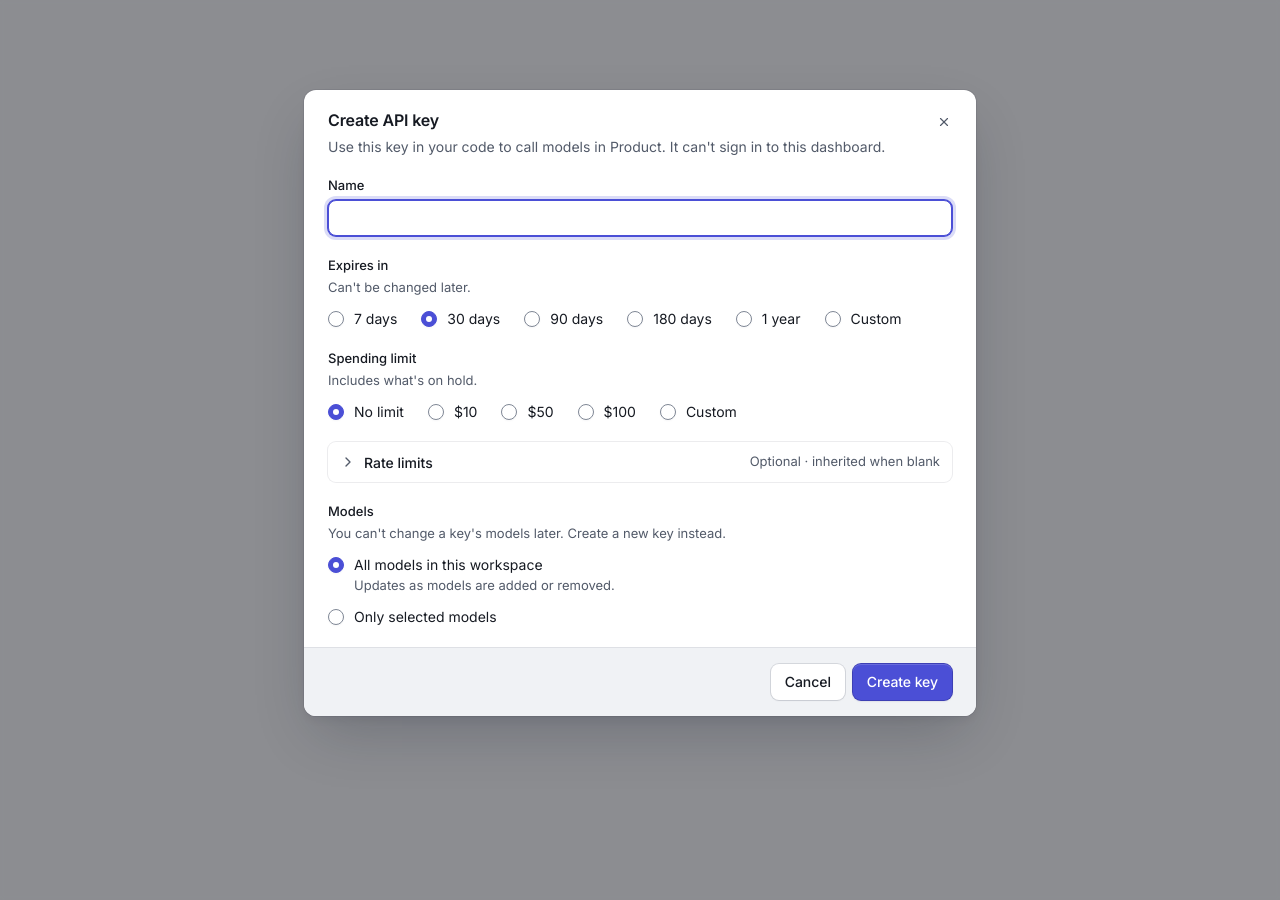
Test case: CreateKeyDialog submit lifetime › shows a tokenless 2xx error without disclosure or automatic retry and allows an explicit creation retry
In the field labelled "Name": x=640, y=218 [328, 200, 952, 236], type "  CLI  "
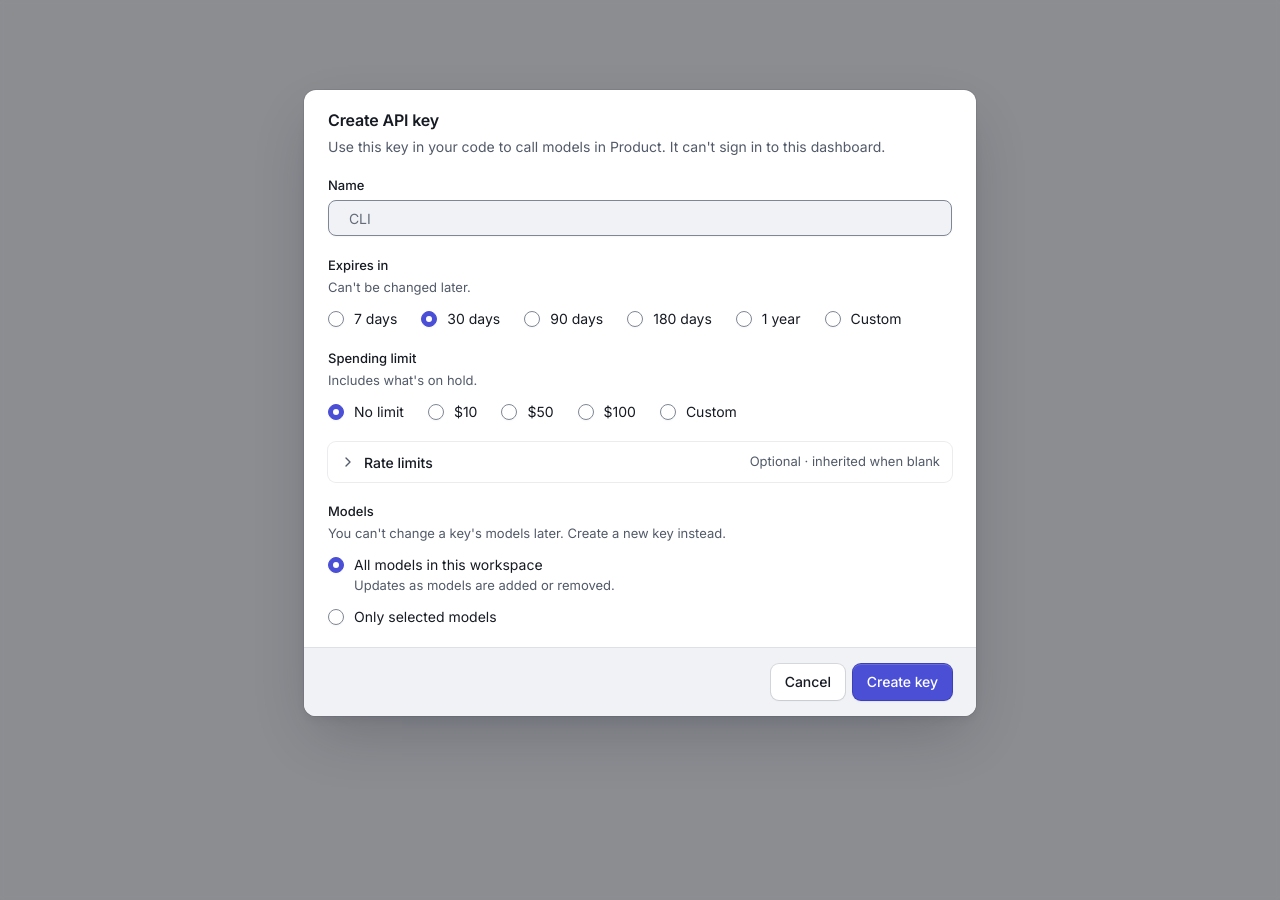
Replace the text in the field labelled "Name" with "  CLI  ": x=640, y=218 [328, 200, 952, 236]
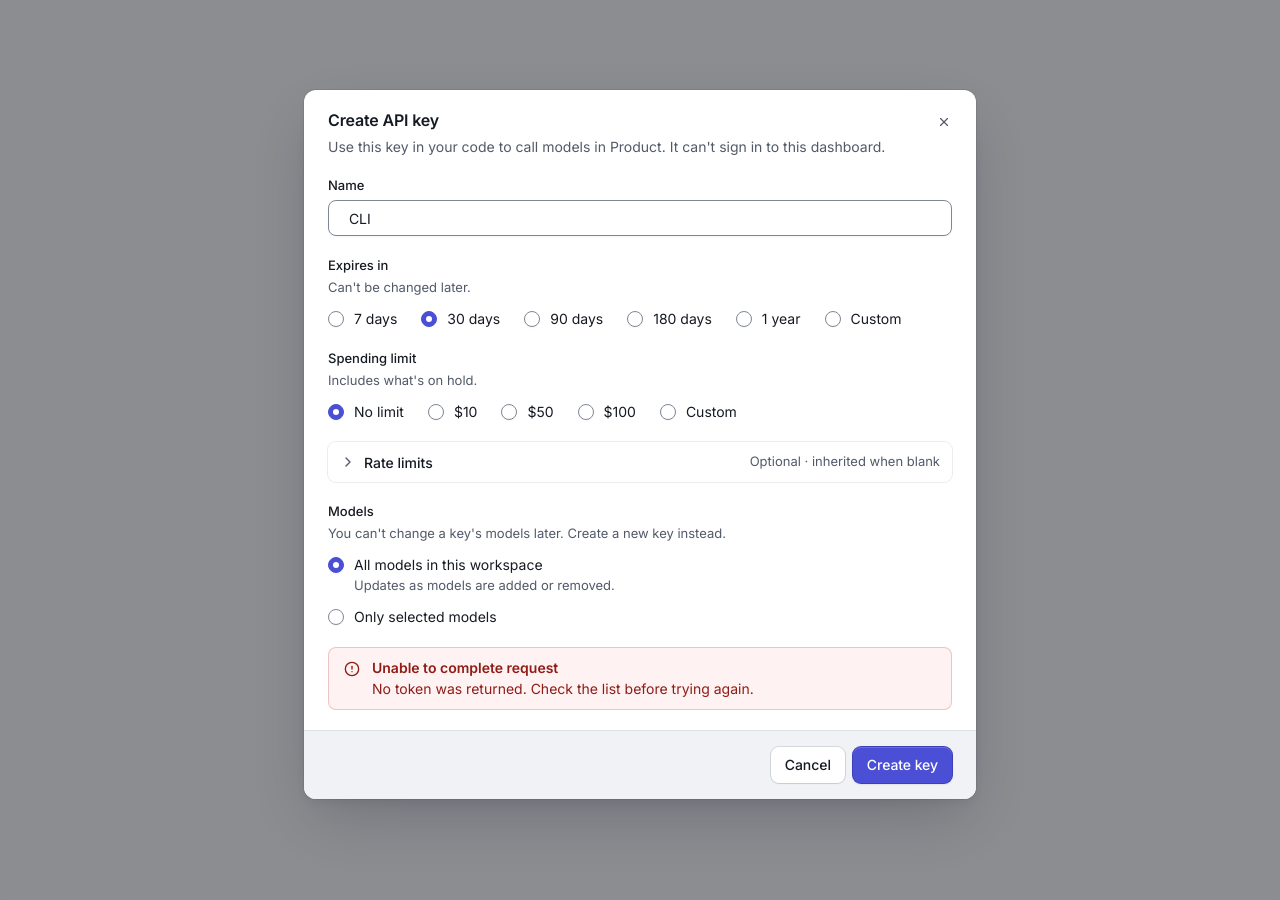
Expected: the text "No token was returned. Check the list before trying again." is shown, [372, 680, 754, 697]
Click the button "Create key": x=902, y=766 [853, 748, 952, 784]
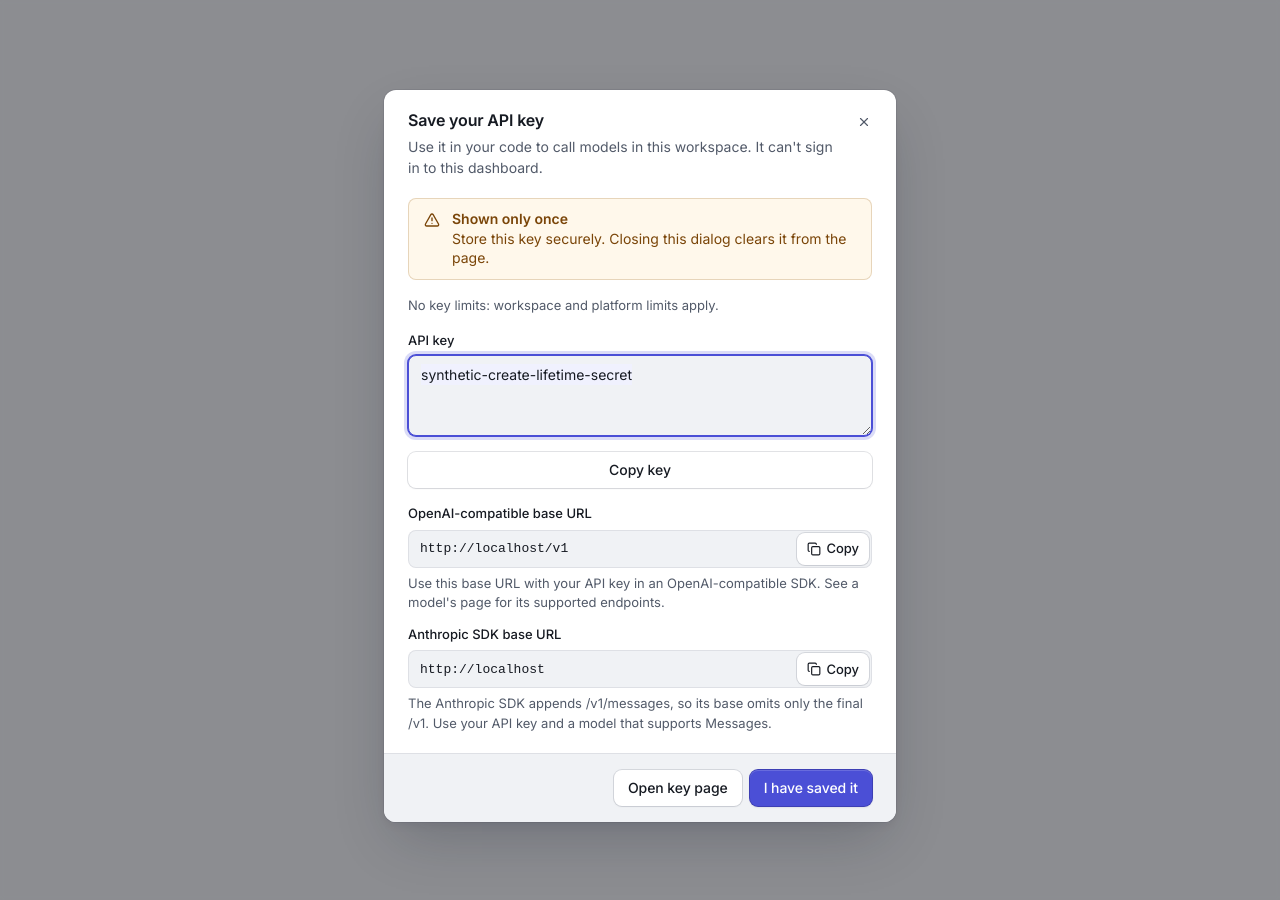
Expected: the text box labelled "API key" holds "synthetic-create-lifetime-secret", [408, 355, 872, 436]
Expected: the dialog shows "Shown only once", [452, 210, 568, 227]
